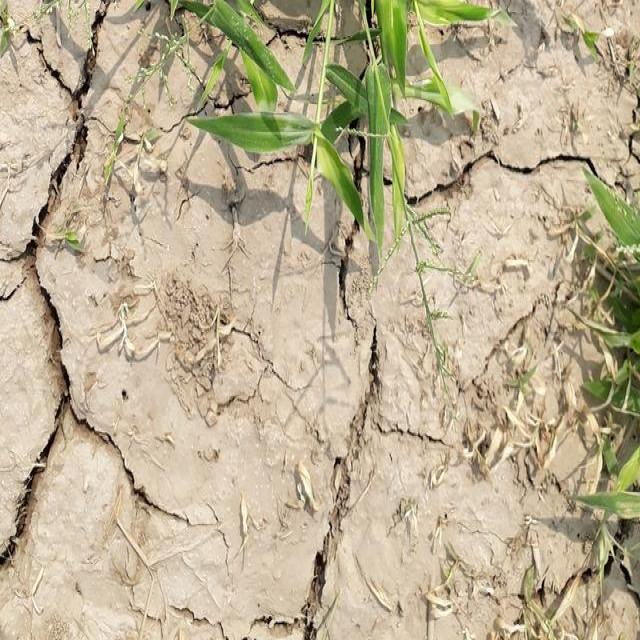weed: (192, 0, 452, 234), (580, 165, 639, 565)
